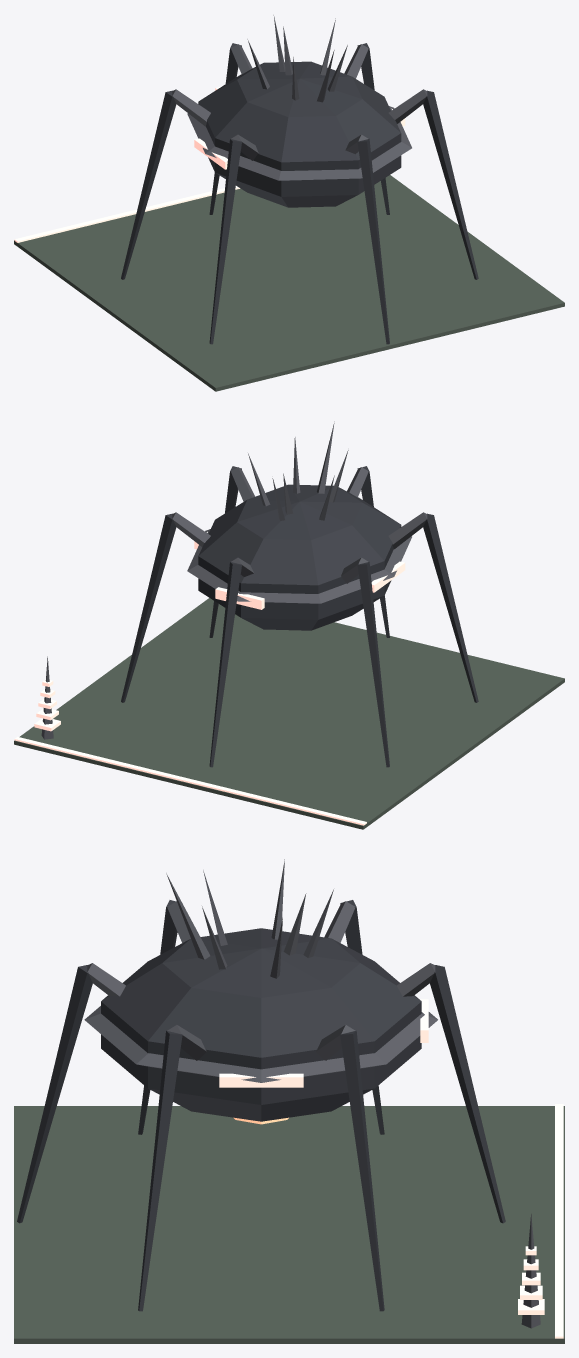
File: zone_low_2_t5.glb
3 renders of one model, top to bottom at view 1: azimuth 30°, elevation 25°; view 2: azimuth 150°, elevation 25°; view 3: azimuth 270°, elevation 25°, orthographic. The views are drawn at different scales.
Visible parts, largest first — view 1: zone_low_2_t5, detail; view 2: zone_low_2_t5, detail; view 3: zone_low_2_t5, detail.
Boxes of the visible parts, bbox=[...] form: zone_low_2_t5: bbox=[14, 43, 564, 391]; detail: bbox=[14, 15, 405, 242]; zone_low_2_t5: bbox=[14, 466, 564, 829]; detail: bbox=[14, 421, 405, 825]; zone_low_2_t5: bbox=[14, 900, 564, 1343]; detail: bbox=[166, 859, 563, 1338].
Size of the model in its own units: 19.6 by 13.95 by 19.6.
